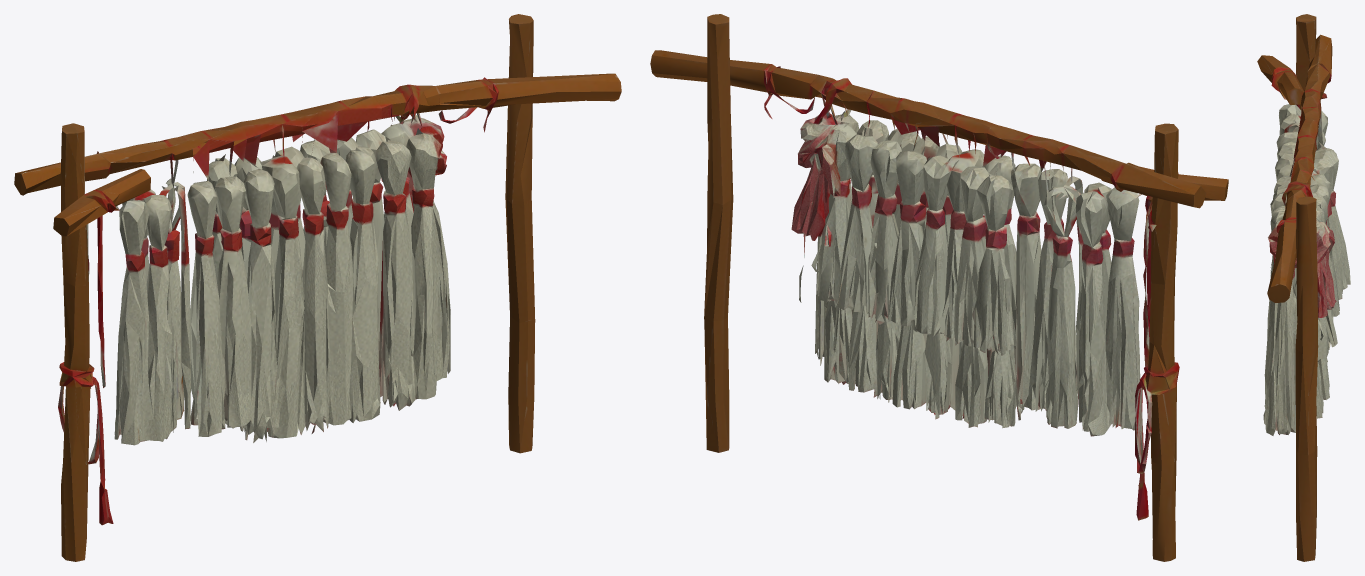
The model's file is PROP_DRYING_RACK_001.glb.
3 views of the same model, side by side, from view 1: azimuth 30°, elevation 25°; view 2: azimuth 150°, elevation 25°; view 3: azimuth 270°, elevation 25° (orthographic). The views are drawn at different scales.
Bounding box in the file's own units: 1.9 × 1.37 × 0.3236.
1 material, 1 textured.
